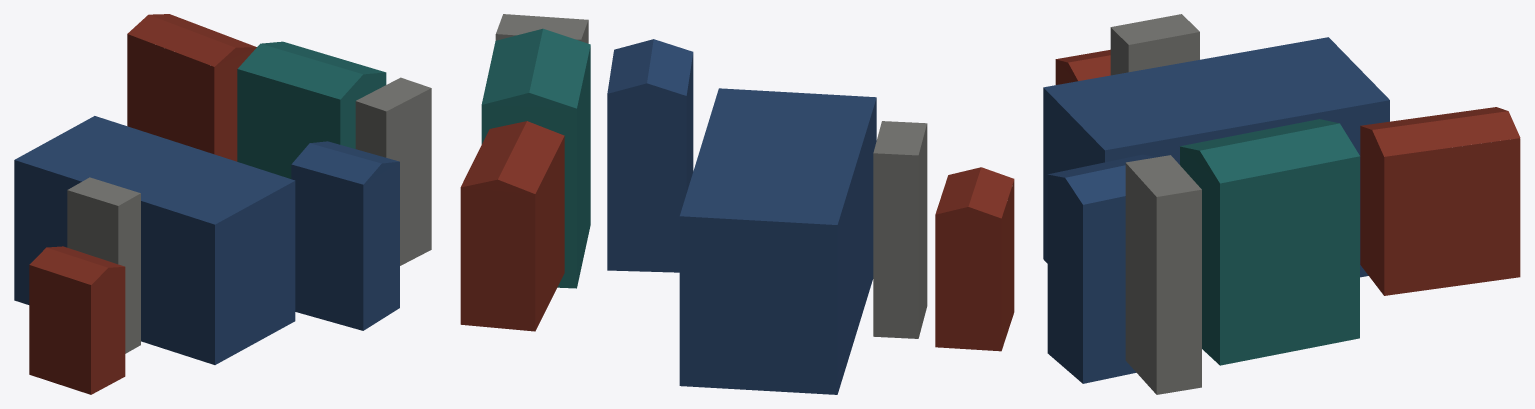
File: near-15-27352-14878.635006d6.glb
The picture shows the model from 3 angles, left to right: view 1: azimuth 30°, elevation 25°; view 2: azimuth 150°, elevation 25°; view 3: azimuth 270°, elevation 25°; orthographic projection. The views are drawn at different scales.
Size of the model in its own units: 62.04 by 28.62 by 51.43.
